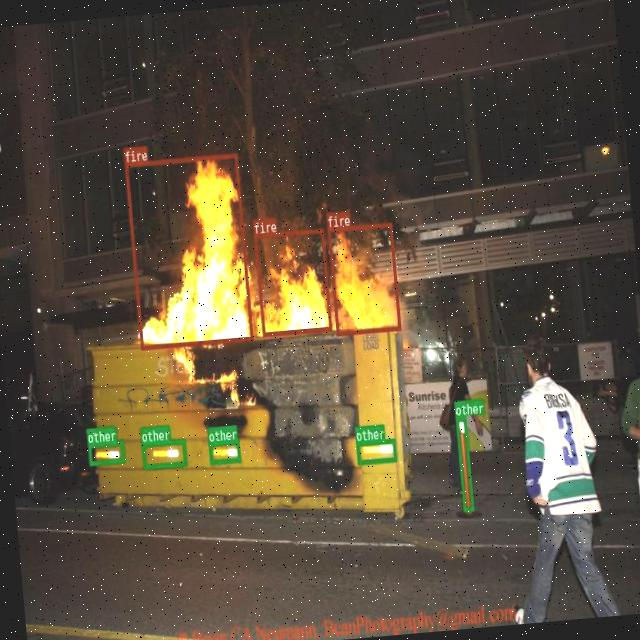fire: (124, 152, 252, 348), (252, 228, 332, 336), (326, 221, 400, 334)
